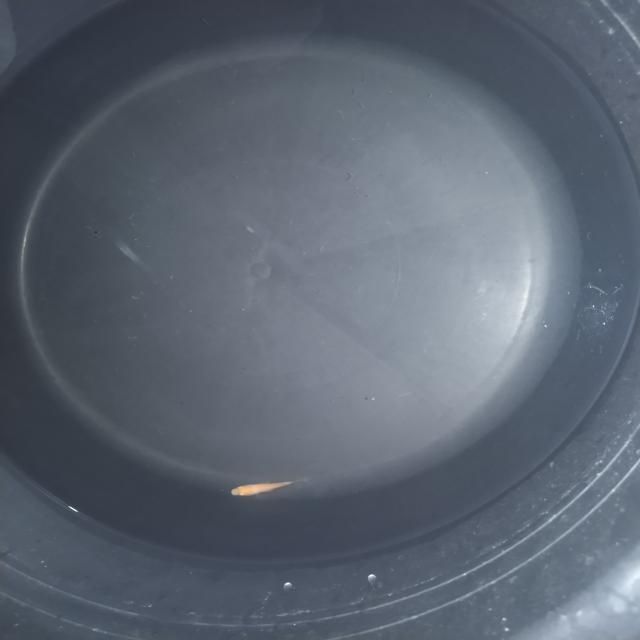nila: (228, 476, 308, 498)
